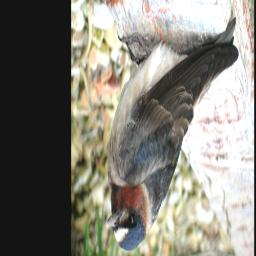Swallow: (102, 12, 242, 256)
